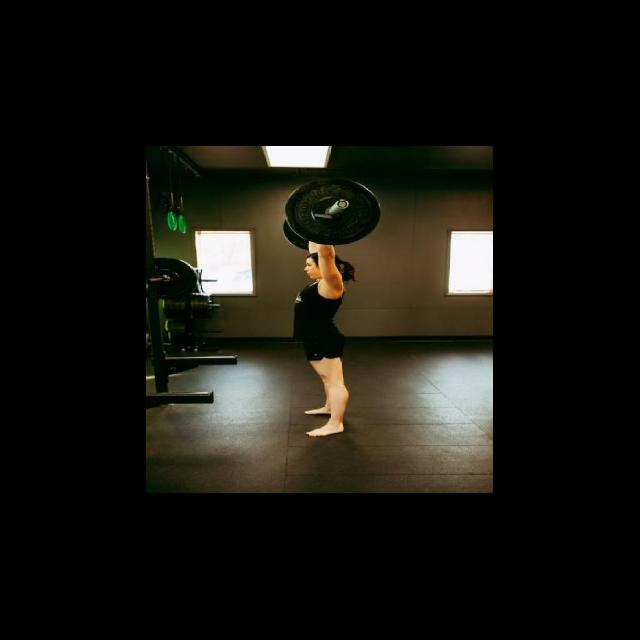barbell: (278, 172, 387, 247)
